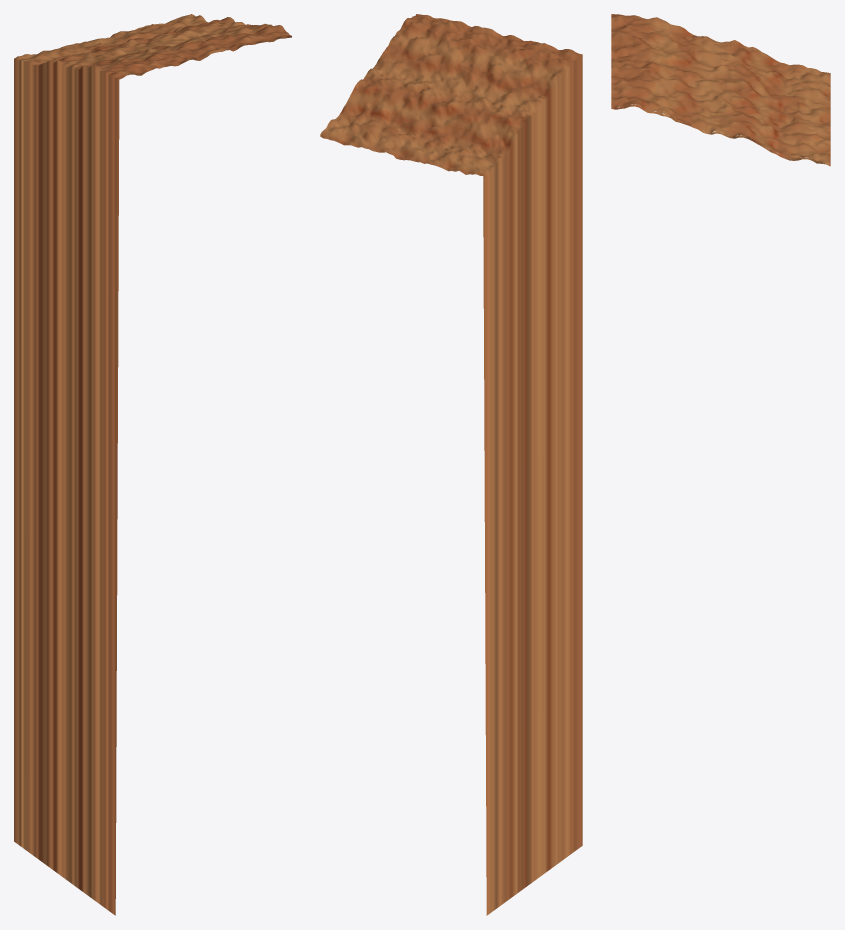
File: terrain-122.glb
3 views of the same model, side by side, from view 1: azimuth 30°, elevation 25°; view 2: azimuth 150°, elevation 25°; view 3: azimuth 270°, elevation 25° (orthographic). The views are drawn at different scales.
Parts seen in each view (by area): view 1: terrain-122; view 2: terrain-122; view 3: terrain-122.
Boxes of the visible parts, bbox=[...] form: terrain-122: bbox=[14, 14, 291, 915]; terrain-122: bbox=[320, 14, 582, 915]; terrain-122: bbox=[611, 14, 830, 166].
Size of the model in its own units: 384 by 1753 by 384.
